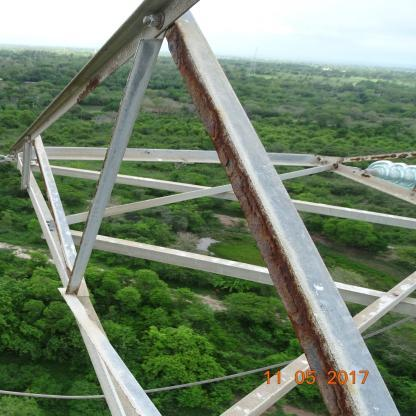rust: (165, 30, 358, 413)
